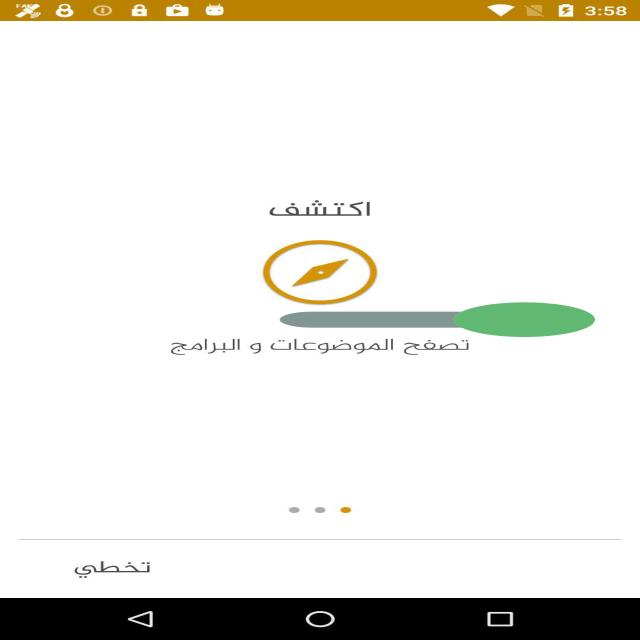social proof: (280, 281, 595, 358)
